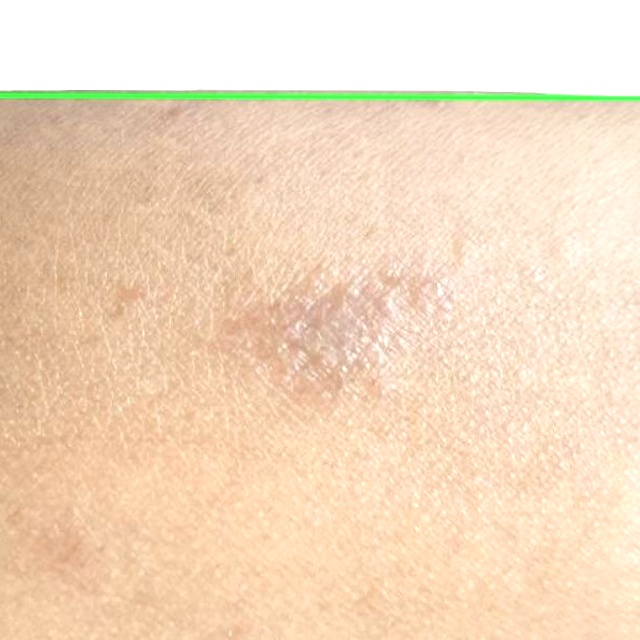Scabies: (0, 0, 639, 98)
